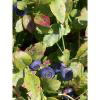Blueberry leaf: (43, 22, 62, 49), (23, 73, 41, 99), (48, 1, 67, 25), (13, 49, 30, 71), (25, 41, 43, 61), (39, 77, 61, 93), (22, 13, 37, 34), (33, 13, 51, 28), (76, 40, 88, 60)
